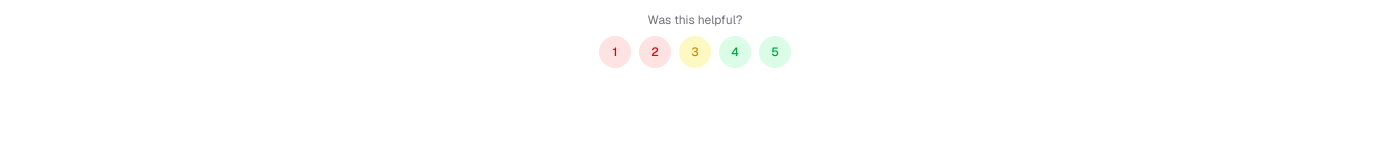
Scenario: ChatFeedback › shows comment input after clicking a score button
The image size is (1390, 160).
Click the button "4": (735, 52) [719,36,751,68]
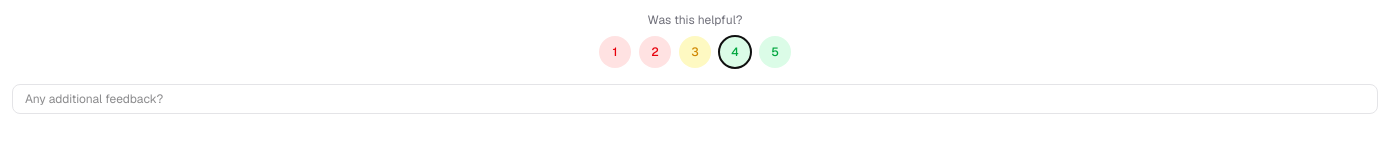
Now the field with placeholder "Any additional feedback?" is shown, box [12,84,1378,114]
